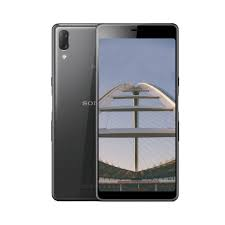sony: (50, 20, 180, 205)
